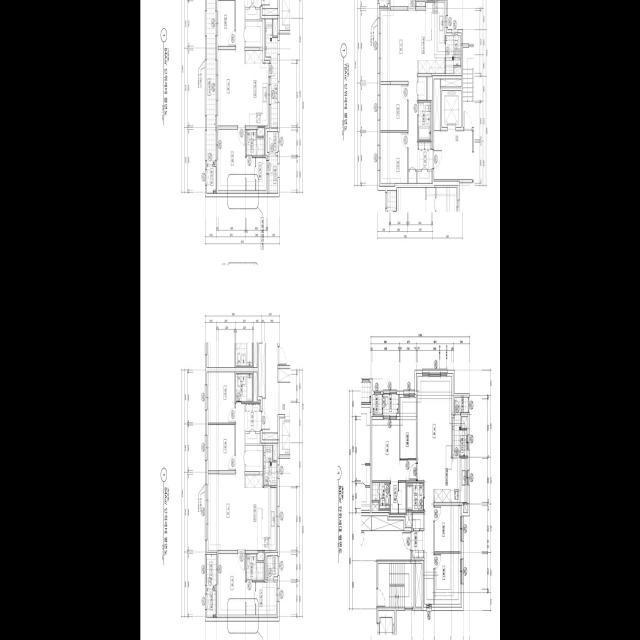background: (140, 0, 500, 640)
space_balconi: (206, 0, 215, 165), (265, 19, 277, 128), (452, 415, 466, 456), (445, 36, 460, 73), (263, 445, 276, 486), (206, 554, 216, 589), (269, 155, 277, 193), (383, 395, 398, 415)
space_bedroom: (372, 420, 416, 481), (218, 129, 245, 190), (218, 554, 245, 615), (380, 132, 407, 183), (208, 372, 234, 423), (434, 554, 460, 604), (380, 85, 407, 130), (434, 506, 460, 552), (208, 425, 234, 471), (218, 0, 234, 46)
space_dressroom: (246, 582, 276, 615), (246, 158, 266, 190), (390, 483, 405, 513)
space_elevator: (441, 91, 461, 127)
space_elevator_hall: (434, 131, 472, 179)
space_front: (245, 404, 261, 432), (417, 142, 433, 170), (411, 531, 424, 558), (244, 0, 261, 7)
space_kitchen: (245, 475, 276, 550), (418, 2, 445, 74), (245, 51, 268, 126), (434, 458, 466, 502)
space_living_room: (417, 377, 451, 604), (380, 10, 418, 170), (208, 404, 245, 550), (218, 0, 245, 126)
space_multipurpose_space: (400, 397, 416, 458)
space_other: (371, 516, 403, 531), (245, 21, 262, 47), (245, 445, 262, 471), (434, 79, 440, 130), (415, 564, 422, 607), (267, 556, 277, 580), (454, 397, 468, 413), (267, 131, 277, 152), (418, 77, 426, 100), (412, 513, 423, 529), (417, 171, 431, 183), (441, 79, 461, 87), (245, 9, 260, 19), (245, 434, 260, 444), (262, 433, 277, 440), (408, 171, 416, 183), (262, 9, 277, 15), (253, 372, 256, 402), (406, 512, 412, 526), (273, 19, 277, 36), (257, 552, 264, 561), (257, 128, 264, 136), (372, 502, 378, 511), (461, 418, 466, 428), (416, 1, 425, 6), (273, 445, 276, 460), (454, 67, 460, 74), (463, 504, 467, 511)
space_outdoor_room: (206, 591, 216, 618), (206, 167, 216, 193), (373, 395, 382, 415)
space_staircase: (378, 564, 414, 607)
space_toilet: (246, 129, 264, 156), (406, 483, 423, 511), (235, 374, 252, 402), (246, 554, 264, 580), (418, 102, 430, 140), (372, 483, 389, 509)
